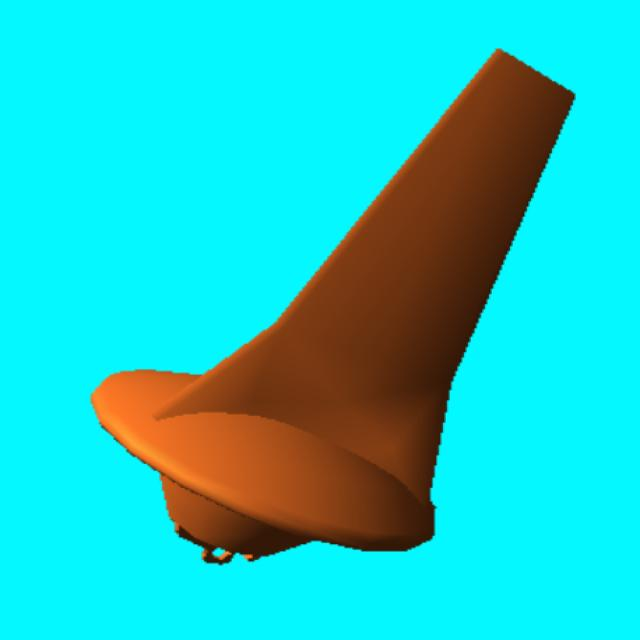OrangeBuoy: (92, 51, 573, 561)
